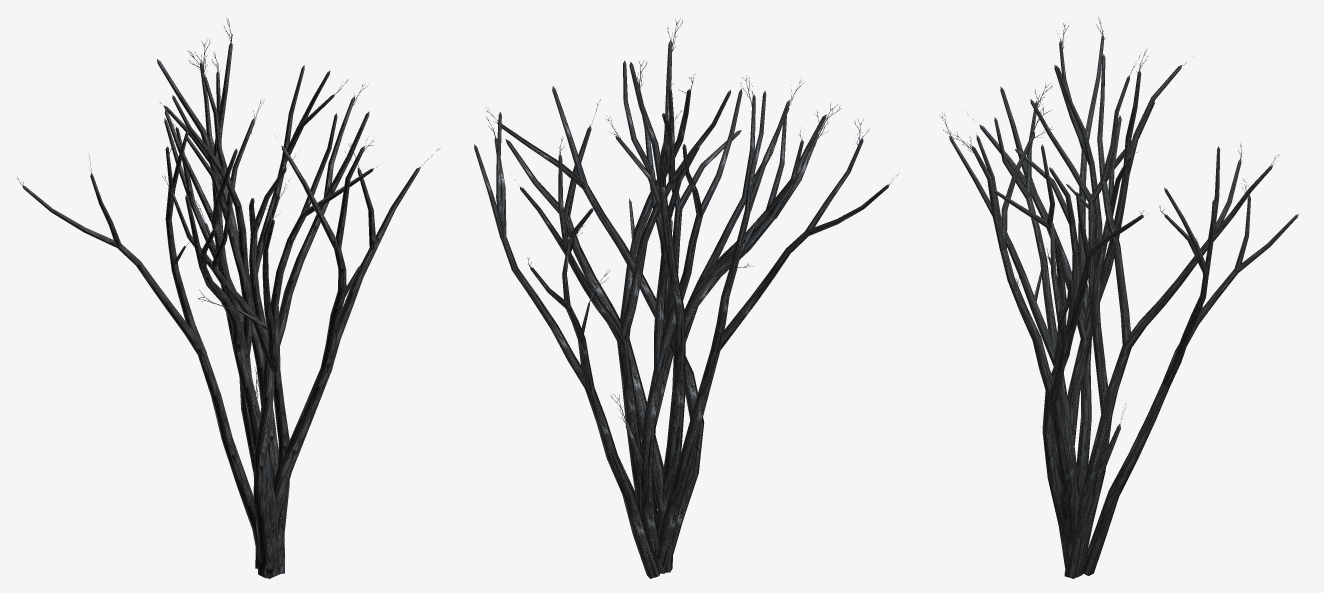
File: mm6_deco_tree29.glb
3 views of the same model, side by side, from view 1: azimuth 30°, elevation 25°; view 2: azimuth 150°, elevation 25°; view 3: azimuth 270°, elevation 25° (orthographic). The views are drawn at different scales.
Parts seen in each view (by area): view 1: Tree; view 2: Tree; view 3: Tree.
Part boxes in pixels (x1,y1,x2,y2): Tree: [17, 18, 440, 578]; Tree: [474, 18, 898, 578]; Tree: [940, 18, 1298, 578].
Size of the model in its own units: 1.29 by 1.58 by 1.03.
Materials: 2 (2 with a texture image).
